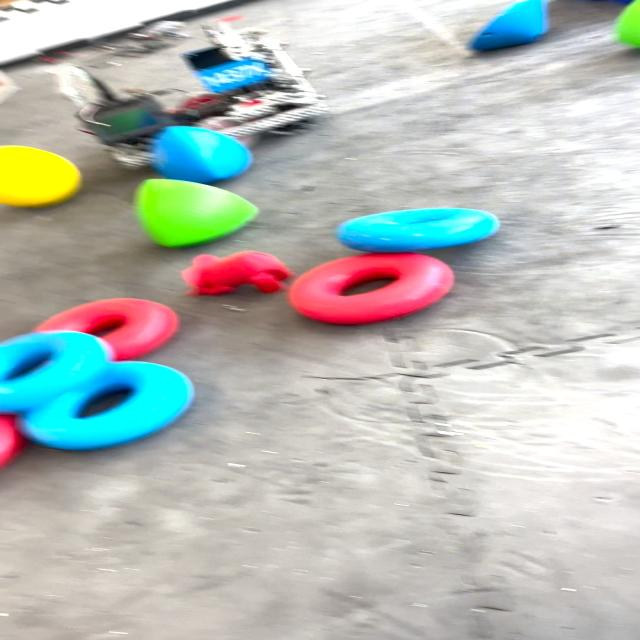Blue-Ring: (22, 361, 193, 450), (0, 331, 111, 412), (338, 208, 500, 252)
Red-Ring: (289, 252, 453, 324), (33, 298, 178, 361)
